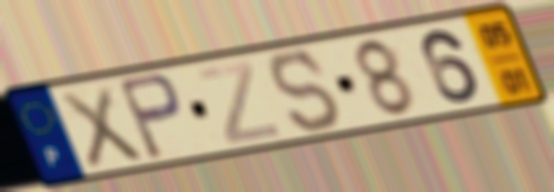6: (419, 27, 482, 106)
8: (352, 36, 421, 119)
P: (113, 70, 186, 163)
S: (267, 48, 346, 136)
X: (54, 82, 148, 172)
Z: (193, 58, 284, 147)
